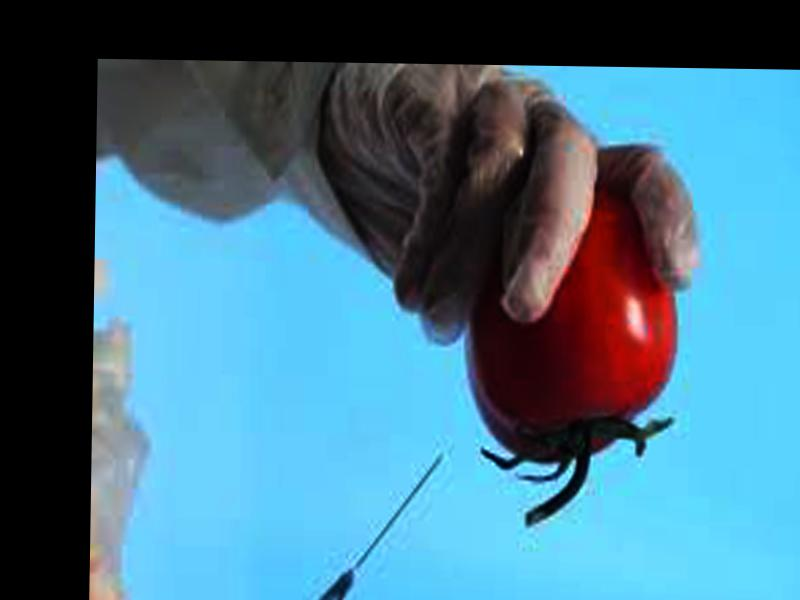Tomato: (467, 185, 680, 463)
